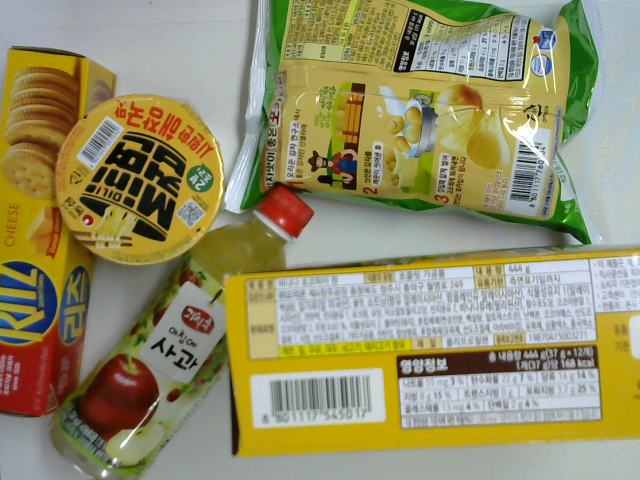Choco_Pie_Banana: (224, 243, 640, 458)
Hejangmini: (54, 94, 228, 270)
Morning_Apple_500ml: (46, 181, 315, 480)
Pocachip_Onion: (221, 1, 602, 248)
Ritz_Sand_Cracker: (1, 43, 116, 422)
